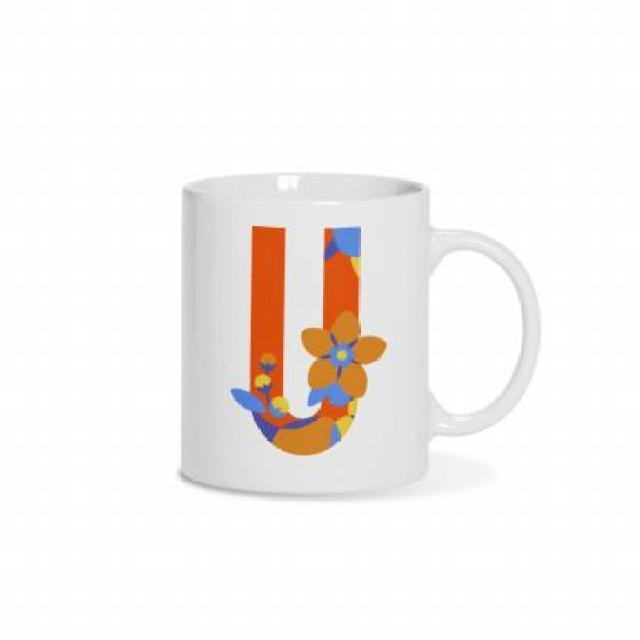taza: (178, 174, 542, 500)
